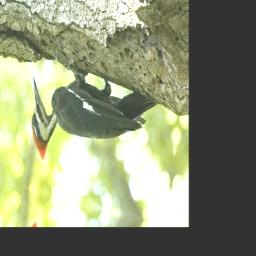Woodpecker: (25, 55, 159, 191)
